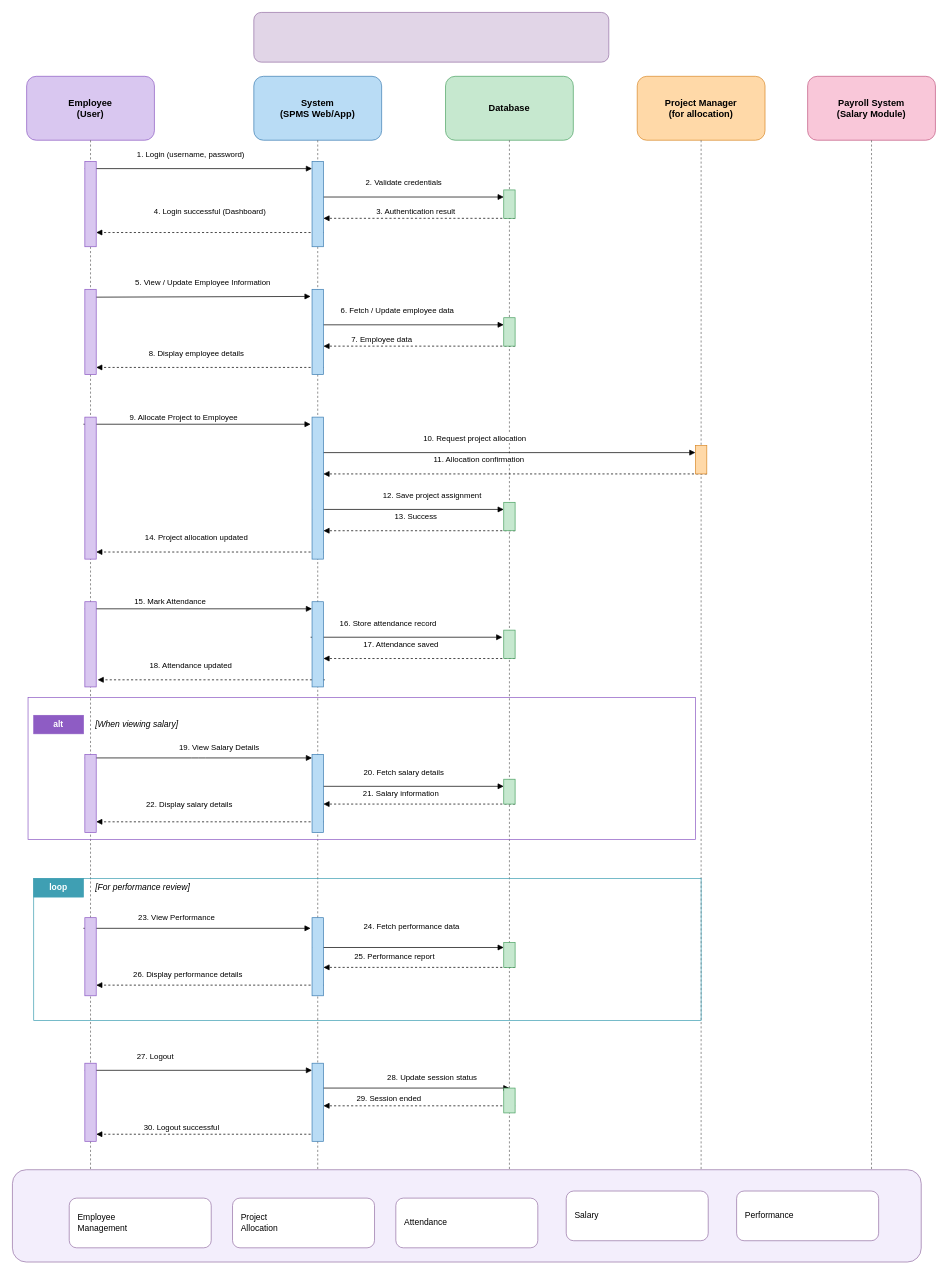
The diagram is 948 pixels wide and 1274 high, and some of its shapes have lost their labels. Here are the shapes that lost their labels. From the top down, the box of each, then its label:
(253, 12, 609, 62): Software Personnel Management System Sequence Diagram
(12, 1169, 921, 1262): Key Features Covered
